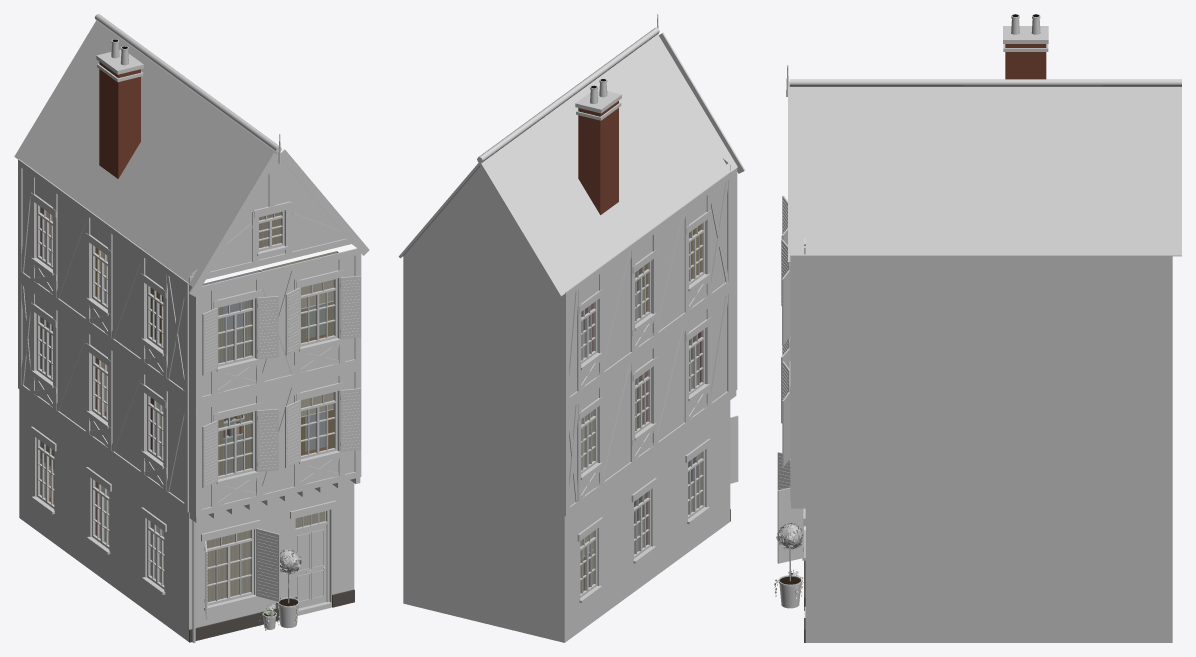
Rendered from StraightEnd_Street2.glb.
3 renders of one model, left to right at view 1: azimuth 30°, elevation 25°; view 2: azimuth 150°, elevation 25°; view 3: azimuth 270°, elevation 25°, orthographic. The views are drawn at different scales.
Parts seen in each view (by area): view 1: StraightEnd_Street2; view 2: StraightEnd_Street2; view 3: StraightEnd_Street2.
Part boxes in pixels (bbox=[...]): StraightEnd_Street2: bbox=[14, 14, 369, 642]; StraightEnd_Street2: bbox=[398, 14, 745, 642]; StraightEnd_Street2: bbox=[774, 14, 1181, 642].
Size of what is drawn, in the model's own units: 4.9 by 13.41 by 8.89.
